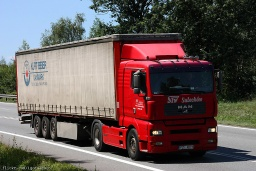truck: (10, 31, 219, 162)
